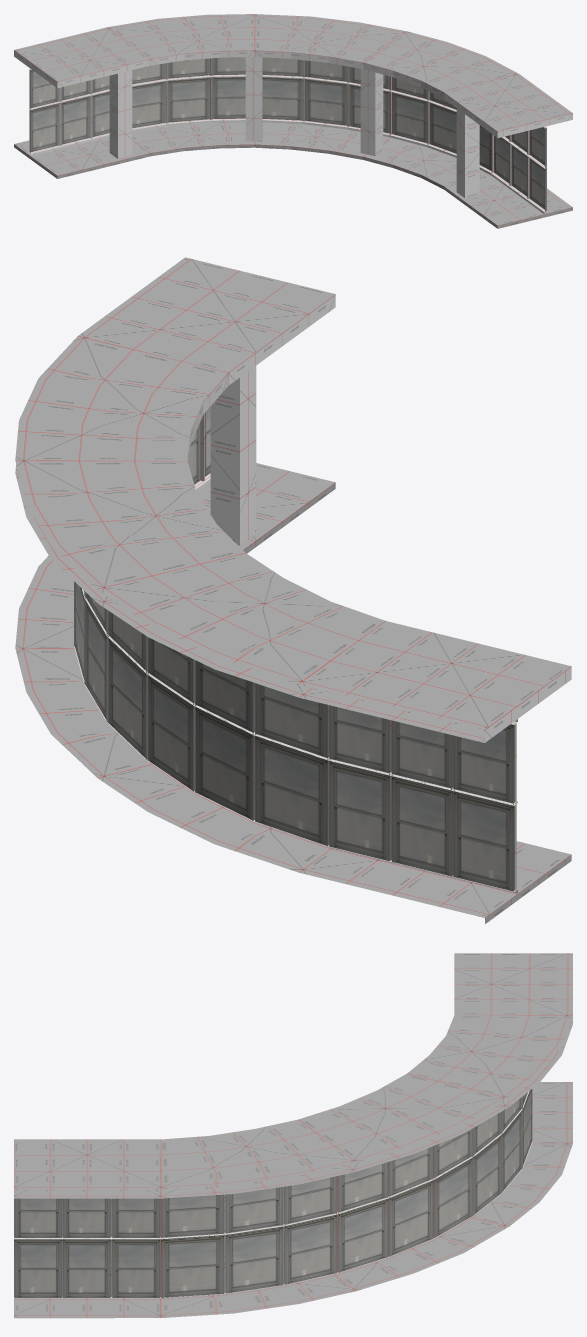
The model's file is B_08_3x_a_round_b.FBX.
3 views of the same model, one above another, from view 1: azimuth 30°, elevation 25°; view 2: azimuth 150°, elevation 25°; view 3: azimuth 270°, elevation 25° (orthographic). The views are drawn at different scales.
Parts seen in each view (by area): view 1: Object003; view 2: Object003; view 3: Object003.
Part boxes in pixels (bbox=[...]): Object003: bbox=[14, 14, 572, 228]; Object003: bbox=[15, 257, 571, 923]; Object003: bbox=[14, 953, 572, 1318].
Bounding box in the file's own units: 76.18 × 76.18 × 20.
